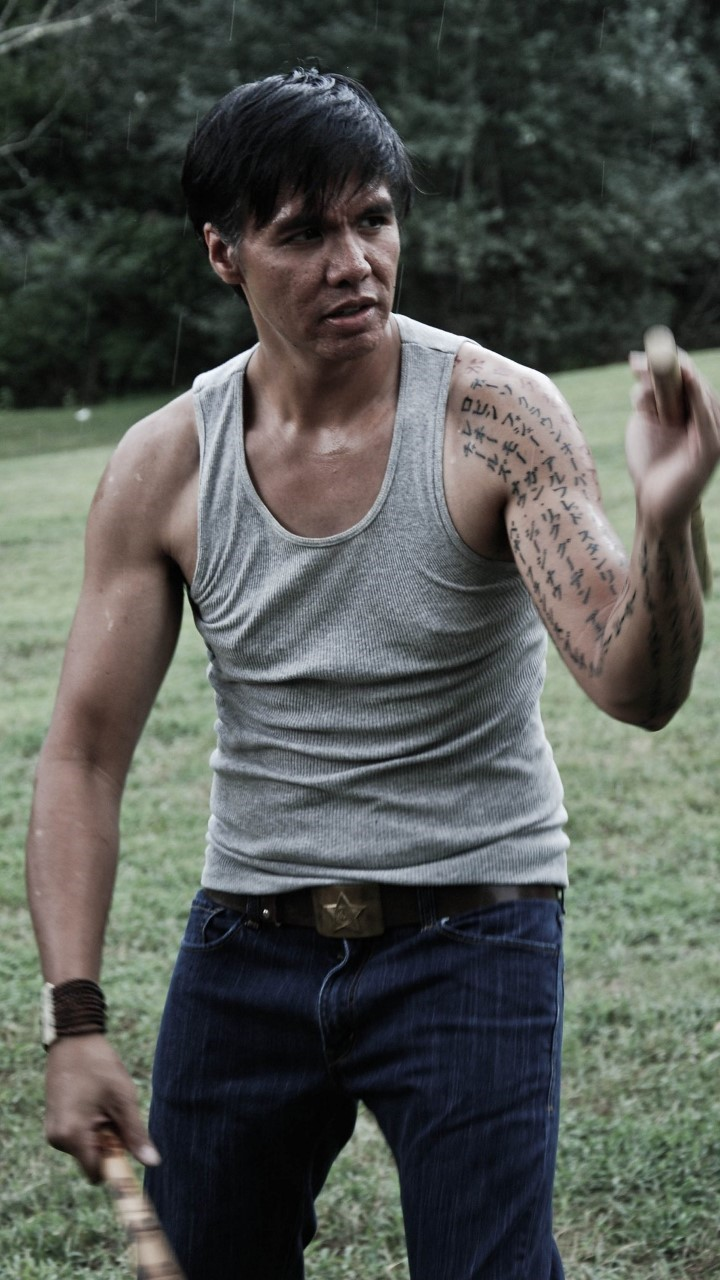baston_v: (60, 1079, 194, 1234)
